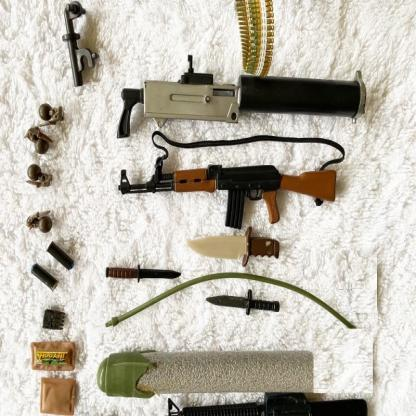Grenade: (23, 125, 54, 156), (37, 100, 66, 129), (25, 206, 55, 234), (23, 160, 52, 188)
Gun: (114, 52, 368, 140), (117, 155, 336, 230), (167, 390, 370, 416)
Knife: (186, 225, 281, 268), (206, 288, 280, 316), (106, 266, 180, 281)
